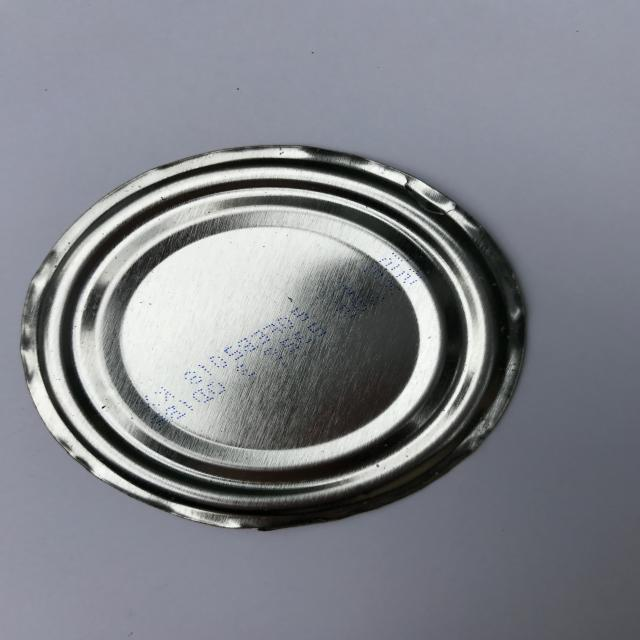metal: (19, 143, 528, 531)
